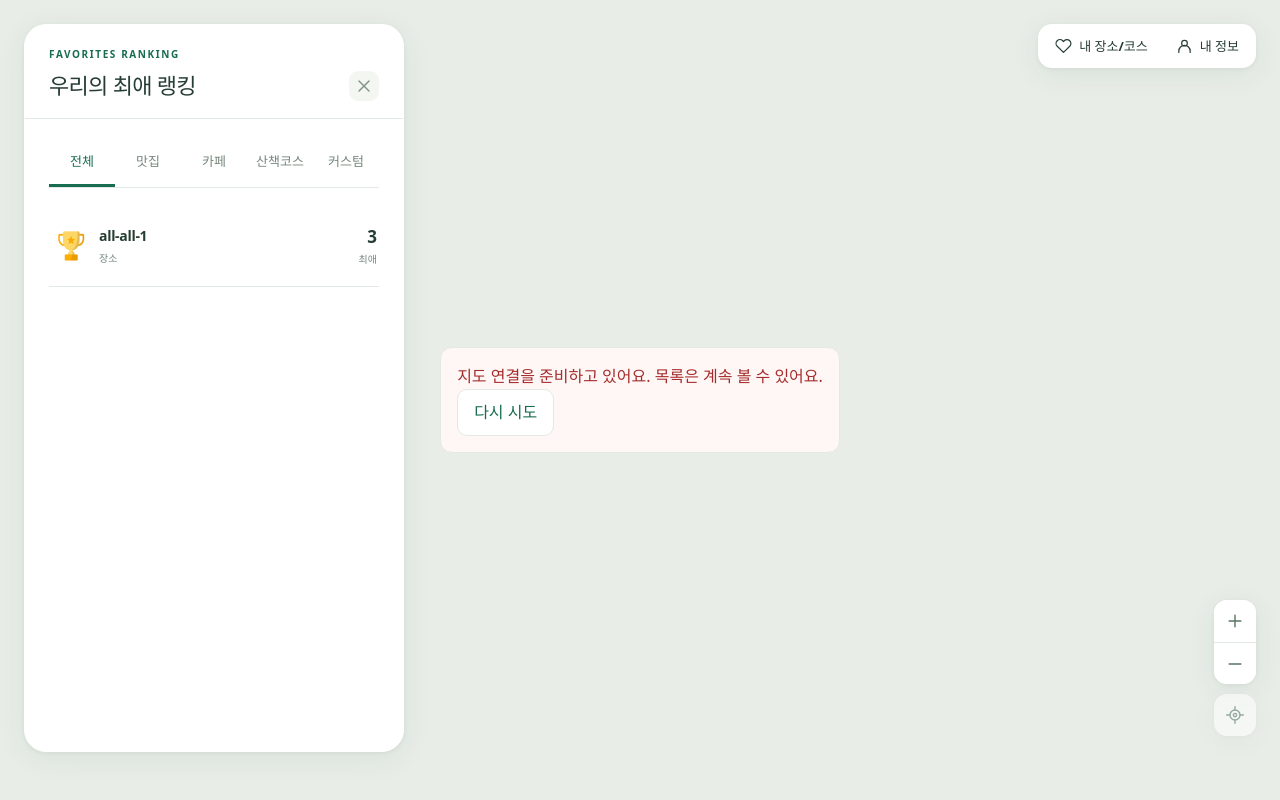
does not append a delayed page after switching ranking filters
The width and height of the screenshot is (1280, 800).
Expected: the link "all-all-1 장소 3 최애" is shown, [49,206,379,286]
Click the tab "카페": (214, 162) [181,138,247,186]
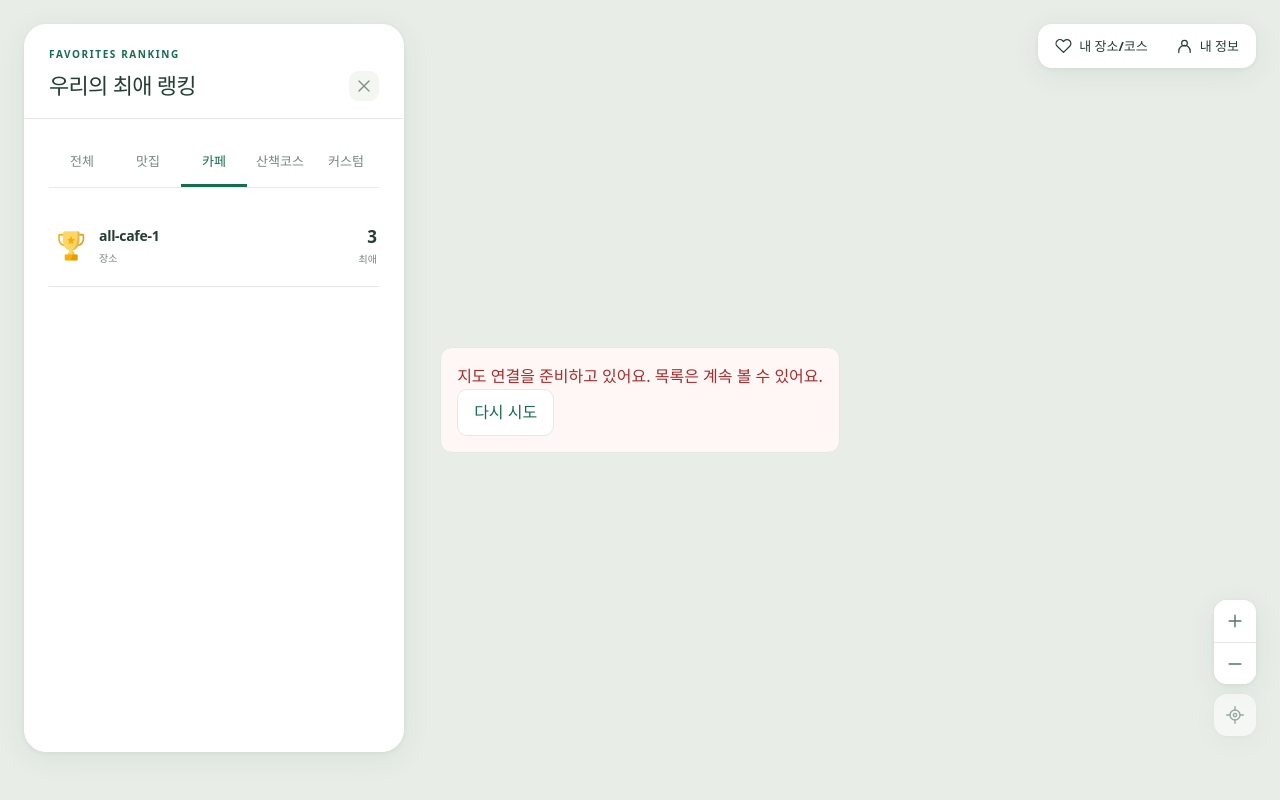
Expected: the link "all-cafe-1 장소 3 최애" is shown, [49,206,379,286]
Expected: the link "all-all-1" is gone
